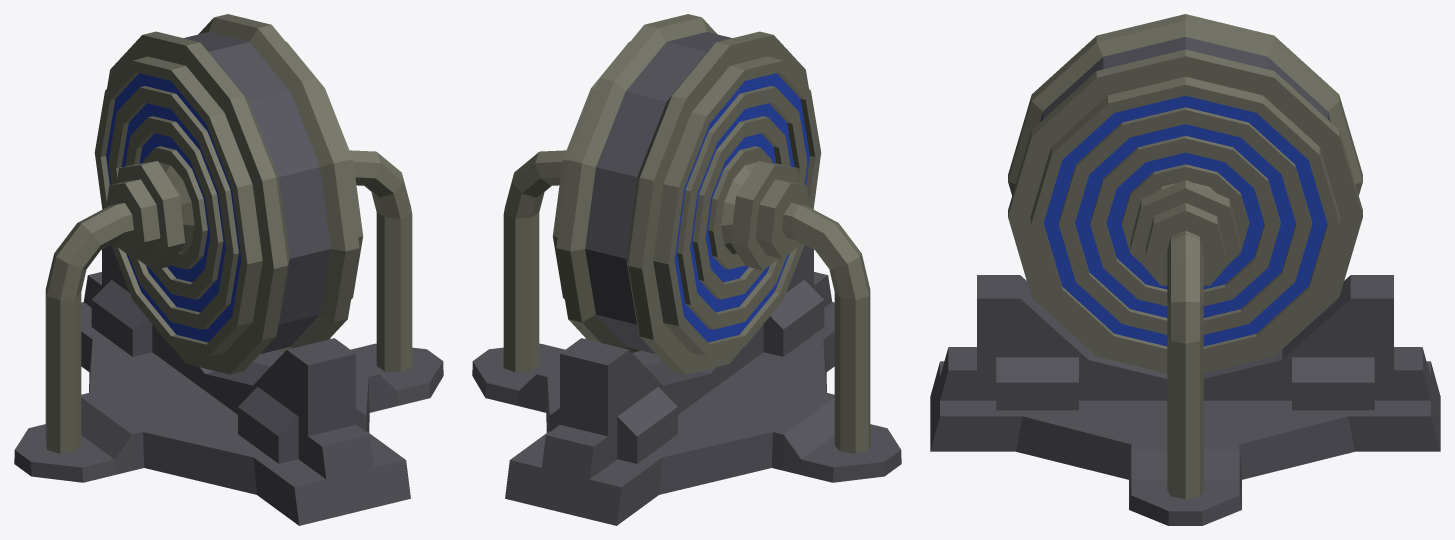
File: LPSciFiCharacter_MachineryC.fbx
3 renders of one model, left to right at view 1: azimuth 30°, elevation 25°; view 2: azimuth 150°, elevation 25°; view 3: azimuth 270°, elevation 25°, orthographic.
Parts seen in each view (by area): view 1: MachineryC; view 2: MachineryC; view 3: MachineryC.
Part boxes in pixels (<box>): MachineryC: <box>14,14,443,525</box>; MachineryC: <box>472,14,901,525</box>; MachineryC: <box>930,14,1440,525</box>.
Size of the model in its own units: 188 by 168 by 200.
